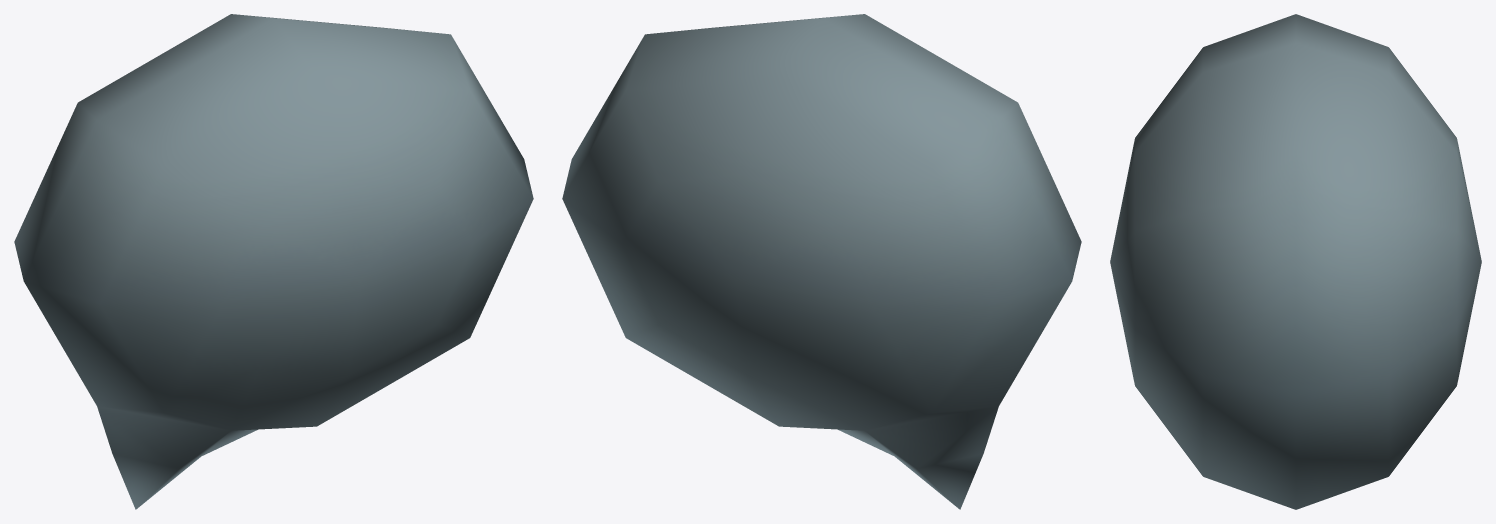
File: eff_kemuri01.fbx
The picture shows the model from 3 angles, left to right: view 1: azimuth 30°, elevation 25°; view 2: azimuth 150°, elevation 25°; view 3: azimuth 270°, elevation 25°; orthographic projection. The views are drawn at different scales.
Visible parts, largest first — view 1: kemuri; view 2: kemuri; view 3: kemuri.
Part boxes in pixels (box(x1,y1,x2,y2)): kemuri: box(14, 14, 533, 509); kemuri: box(562, 14, 1081, 509); kemuri: box(1110, 14, 1481, 509).
Bounding box in the file's own units: 195 × 171 × 116.
